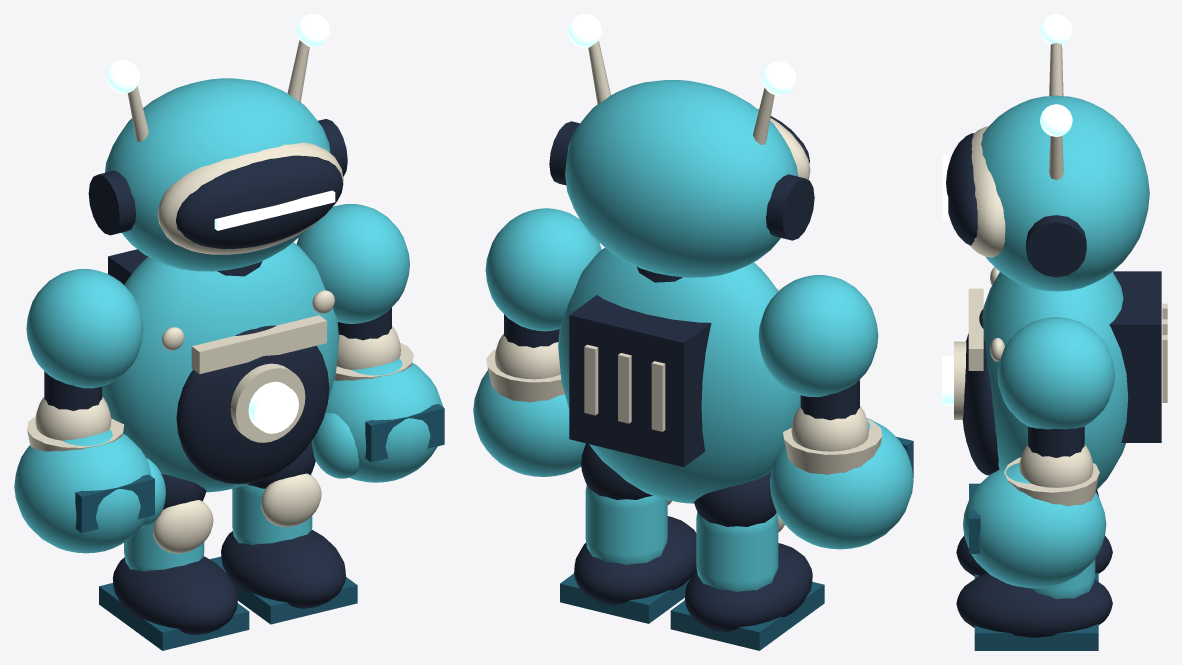
The model's file is relay.glb.
3 renders of one model, left to right at view 1: azimuth 30°, elevation 25°; view 2: azimuth 150°, elevation 25°; view 3: azimuth 270°, elevation 25°, orthographic. The views are drawn at different scales.
Visible parts, largest first — view 1: armored chest, shoulder armor (×2), boxing gauntlet (×2), helmet shell, boot (×2), belly inset, smoked visor, knee cap (×2), boot sole (×2), shin armor (×2), elbow (×2), visor gasket (+13 smaller); view 2: helmet shell, armored chest, shoulder armor (×2), boxing gauntlet (×2), backpack, boot (×2), shin armor (×2), boot sole (×2), hip joint (×2), elbow (×2), glove cuff (×2), helmet receiver (×2) (+5 smaller); view 3: helmet shell, boxing gauntlet, armored chest, shoulder armor, boot (×2), backpack, belly inset, helmet receiver, visor gasket, smoked visor, boot sole, elbow (+11 smaller).
Boxes of the visible parts, x1=… form: armored chest: x1=102, y1=242, x2=339, y2=492; shoulder armor (×2): x1=26, y1=204, x2=409, y2=388; boxing gauntlet (×2): x1=14, y1=358, x2=443, y2=553; helmet shell: x1=105, y1=78, x2=330, y2=271; boot (×2): x1=112, y1=530, x2=345, y2=634; belly inset: x1=176, y1=325, x2=329, y2=483; smoked visor: x1=176, y1=155, x2=343, y2=249; knee cap (×2): x1=153, y1=473, x2=321, y2=553; boot sole (×2): x1=99, y1=556, x2=357, y2=650; shin armor (×2): x1=124, y1=474, x2=312, y2=571; elbow (×2): x1=35, y1=326, x2=400, y2=440; visor gasket: x1=157, y1=142, x2=343, y2=254; helmet shell: x1=565, y1=80, x2=797, y2=277; armored chest: x1=558, y1=248, x2=800, y2=503; shoulder armor (×2): x1=485, y1=208, x2=878, y2=397; boxing gauntlet (×2): x1=473, y1=370, x2=913, y2=549; backpack: x1=569, y1=295, x2=711, y2=466; boot (×2): x1=574, y1=516, x2=812, y2=632; shin armor (×2): x1=585, y1=485, x2=778, y2=591; boot sole (×2): x1=560, y1=569, x2=824, y2=650; hip joint (×2): x1=581, y1=443, x2=776, y2=526; elbow (×2): x1=495, y1=334, x2=868, y2=451; glove cuff (×2): x1=486, y1=349, x2=882, y2=474; helmet receiver (×2): x1=549, y1=121, x2=814, y2=240; helmet shell: x1=981, y1=95, x2=1149, y2=291; boxing gauntlet: x1=963, y1=462, x2=1106, y2=588; armored chest: x1=982, y1=272, x2=1128, y2=489; shoulder armor: x1=997, y1=317, x2=1114, y2=429; boot (×2): x1=956, y1=535, x2=1112, y2=637; backpack: x1=1109, y1=271, x2=1161, y2=442; belly inset: x1=962, y1=309, x2=999, y2=475; helmet receiver: x1=1026, y1=215, x2=1086, y2=277; visor gasket: x1=969, y1=126, x2=1005, y2=257; smoked visor: x1=946, y1=133, x2=977, y2=245; boot sole: x1=974, y1=624, x2=1098, y2=650; elbow: x1=1019, y1=444, x2=1093, y2=487.
Bounding box in the file's own units: 2.12 × 2.79 × 1.04.
